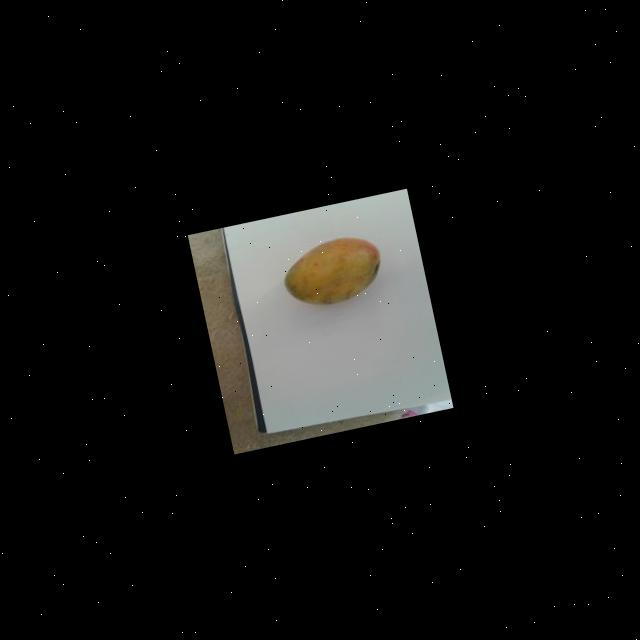Mango: (276, 230, 388, 312)
